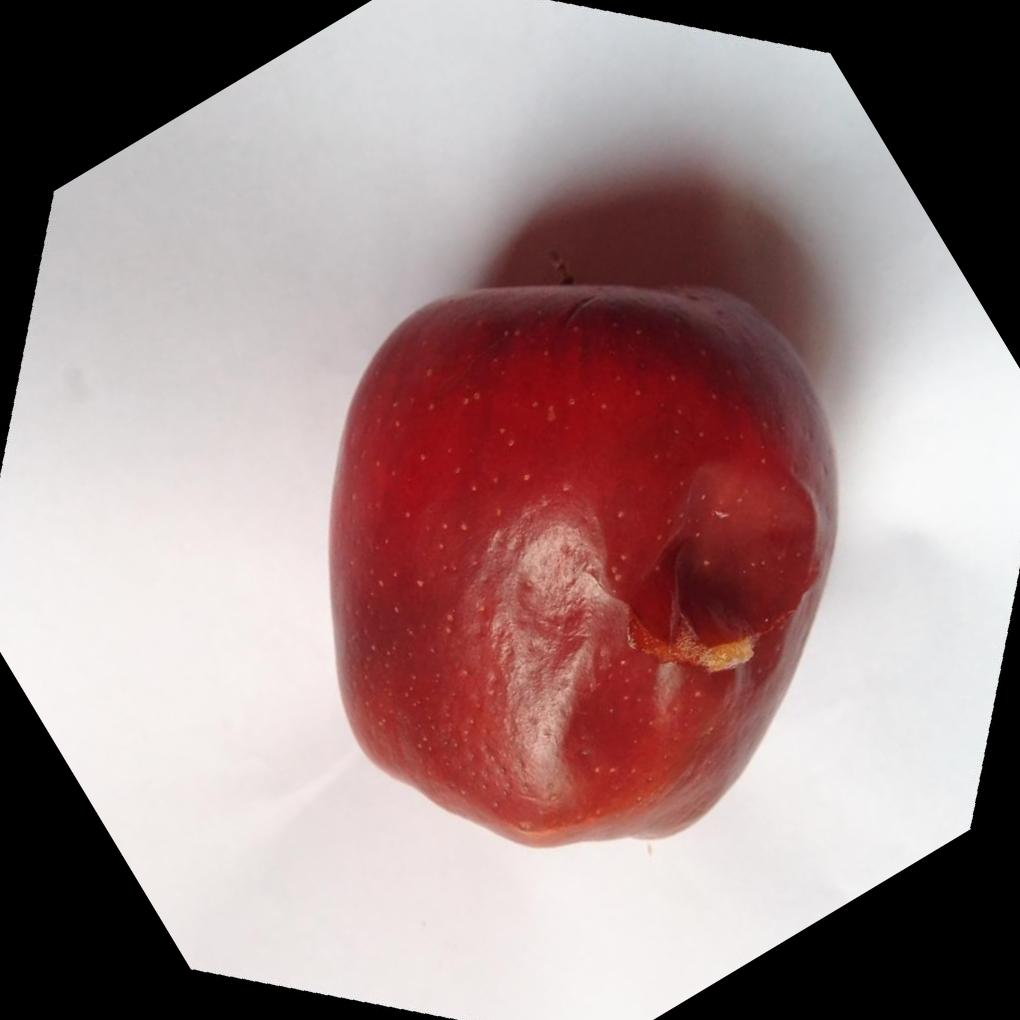FreshOrange: (328, 275, 844, 849)
